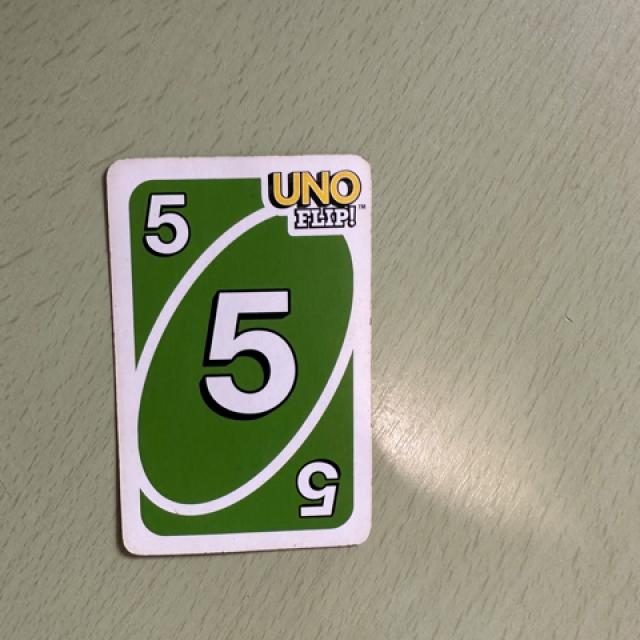lgreen-5: (123, 173, 220, 280)
